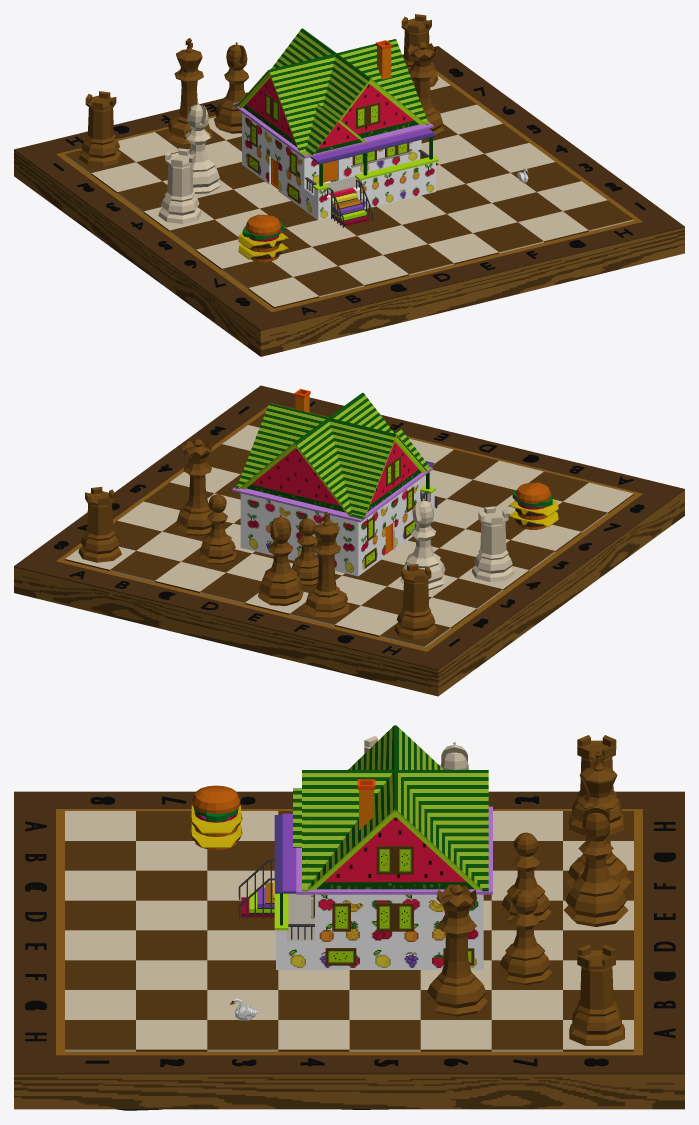
The picture shows the model from 3 angles, top to bottom: view 1: azimuth 30°, elevation 25°; view 2: azimuth 150°, elevation 25°; view 3: azimuth 270°, elevation 25°; orthographic projection. The views are drawn at different scales.
Parts seen in each view (by area): view 1: Cube.002, Cube.1063, OBJRANDOM_HAMBURGER; view 2: Cube.002, Cube.1063, OBJRANDOM_HAMBURGER; view 3: Cube.002, Cube.1063, OBJRANDOM_HAMBURGER.
Part boxes in pixels (<box>): Cube.002: <box>14,14,684,356</box>; Cube.1063: <box>232,28,438,227</box>; OBJRANDOM_HAMBURGER: <box>238,214,288,262</box>; Cube.002: <box>14,385,684,696</box>; Cube.1063: <box>232,389,437,576</box>; OBJRANDOM_HAMBURGER: <box>508,482,558,529</box>; Cube.002: <box>14,735,684,1109</box>; Cube.1063: <box>238,725,492,969</box>; OBJRANDOM_HAMBURGER: <box>190,785,242,849</box>.
Size of the model in its own units: 3981 by 1457 by 4012.
Materials: 27 (4 with a texture image).
